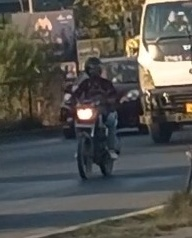BikeWithRider: (55, 52, 126, 183)
Helmet: (80, 53, 105, 79)
